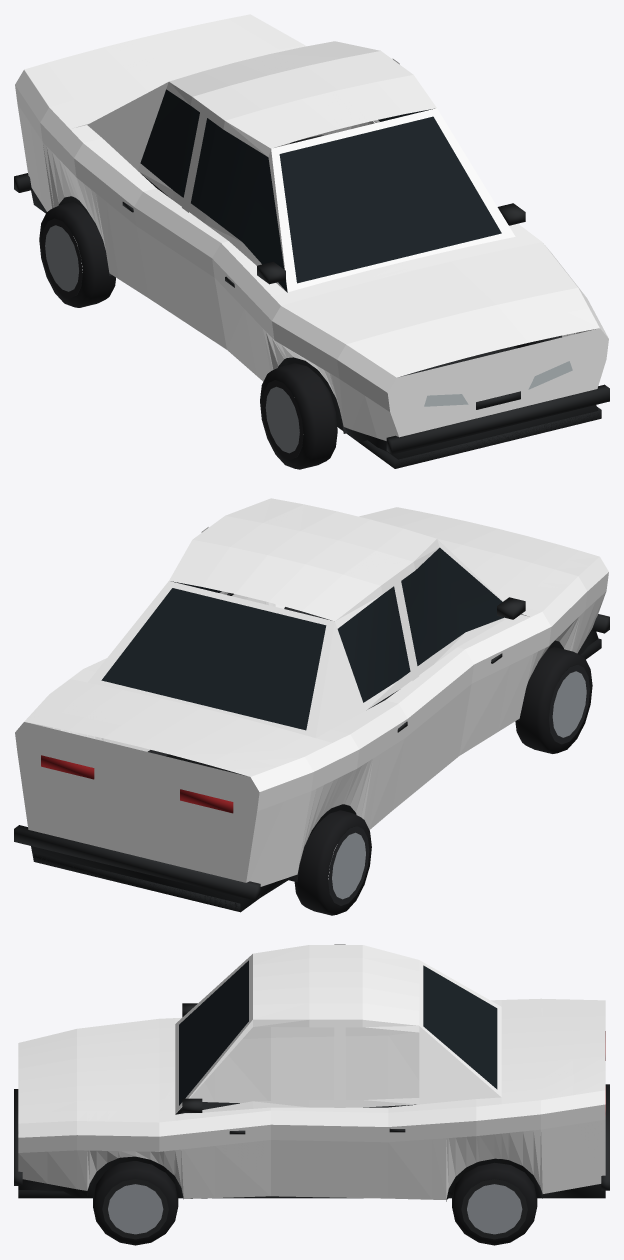
Rendered from dunmere_carvalho.glb.
3 views of the same model, one above another, from view 1: azimuth 30°, elevation 25°; view 2: azimuth 150°, elevation 25°; view 3: azimuth 270°, elevation 25° (orthographic). The views are drawn at different scales.
Visible parts, largest first — view 1: Body_Paint, Body_Details, Mount_FrontLeft_Wheel_Details, Mount_RearLeft_Wheel_Details; view 2: Body_Paint, Body_Details, Mount_RearLeft_Wheel_Details, Mount_FrontLeft_Wheel_Details; view 3: Body_Paint, Body_Details, Mount_FrontRight_Wheel_Details, Mount_RearRight_Wheel_Details.
Part boxes in pixels (box(x1,y1,x2,y2)): Body_Paint: box(15, 14, 608, 440); Body_Details: box(14, 89, 609, 468); Mount_FrontLeft_Wheel_Details: box(260, 363, 337, 469); Mount_RearLeft_Wheel_Details: box(39, 202, 115, 307); Body_Paint: box(15, 498, 608, 886); Body_Details: box(14, 547, 609, 912); Mount_RearLeft_Wheel_Details: box(294, 810, 371, 915); Mount_FrontLeft_Wheel_Details: box(515, 647, 592, 753); Body_Paint: box(18, 944, 605, 1199); Body_Details: box(14, 960, 609, 1201); Mount_FrontRight_Wheel_Details: box(93, 1161, 178, 1245); Mount_RearRight_Wheel_Details: box(452, 1162, 537, 1245).
Size of the model in its own units: 1.73 by 1.5 by 3.84.
Materials: 2 (1 with a texture image).
